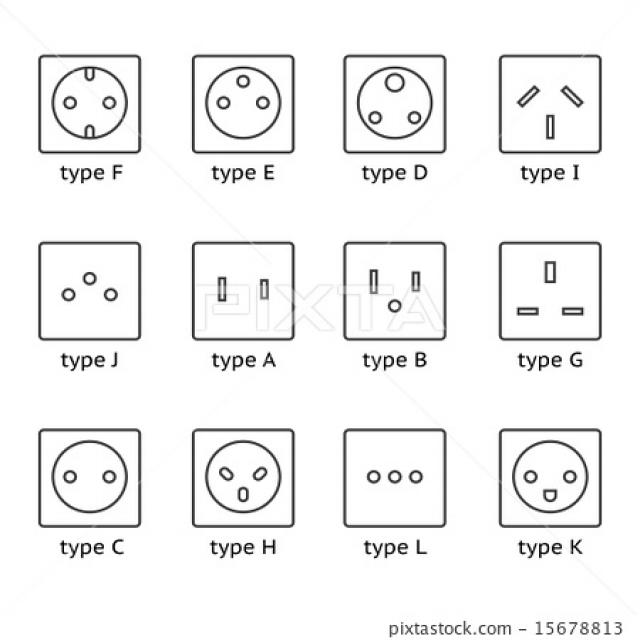typeb: (34, 46, 144, 158)
